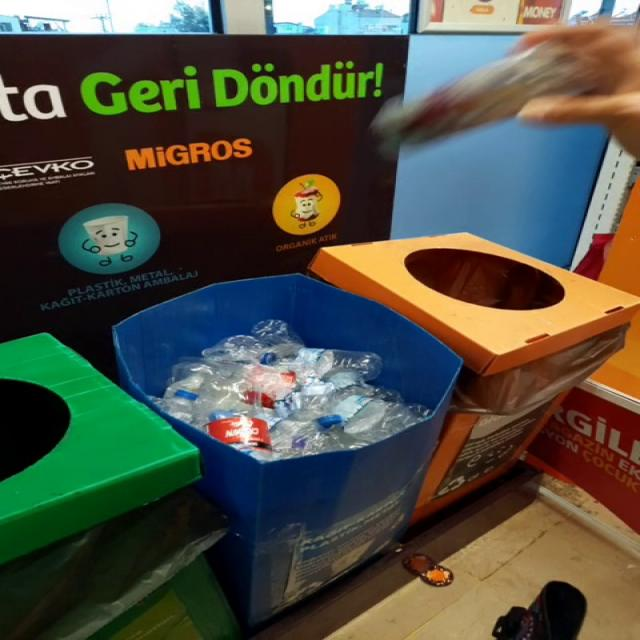bin: (112, 274, 463, 627), (312, 234, 640, 375)
metal: (372, 44, 596, 152)
